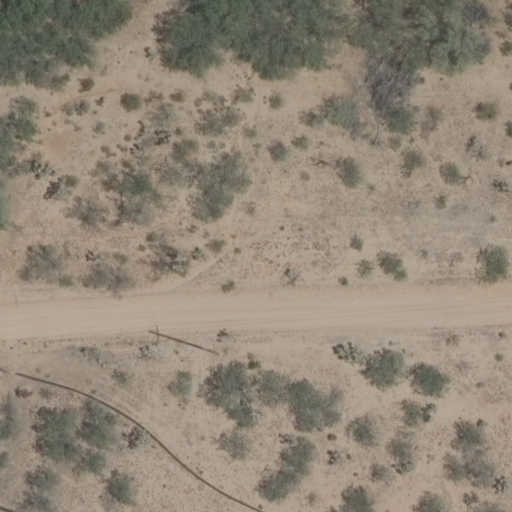DT: (208, 346, 229, 359)
